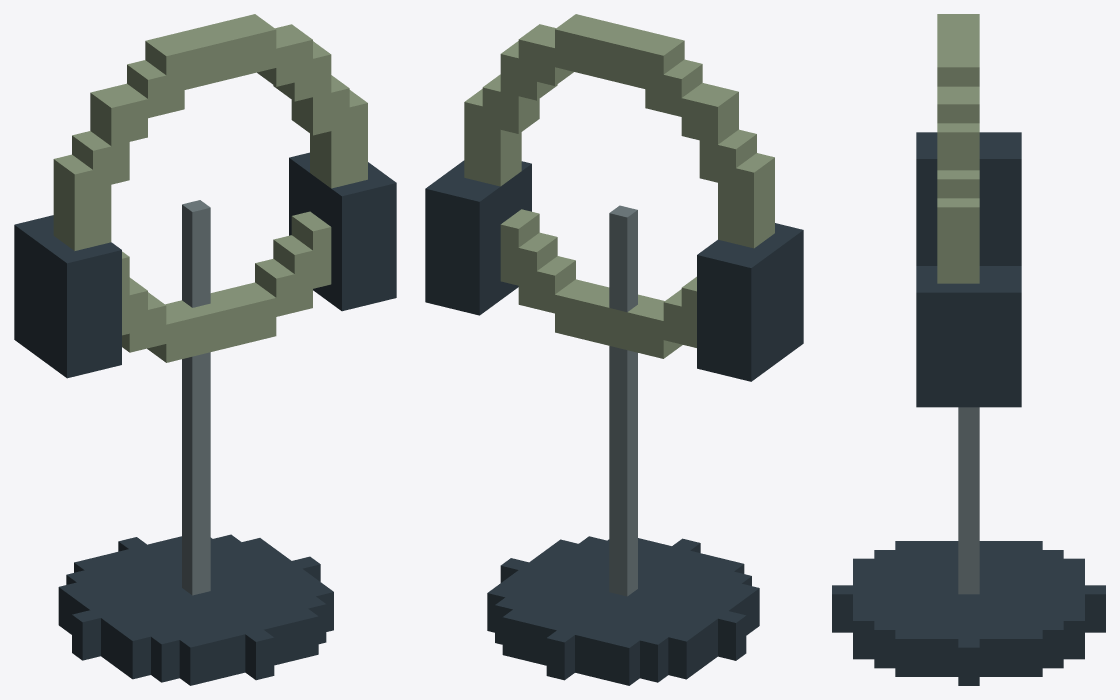
File: productivity-13.glb
The picture shows the model from 3 angles, left to right: view 1: azimuth 30°, elevation 25°; view 2: azimuth 150°, elevation 25°; view 3: azimuth 270°, elevation 25°; orthographic projection.
Parts seen in each view (by area): view 1: Focus headphones; view 2: Focus headphones; view 3: Focus headphones.
Boxes of the visible parts, <box> form: Focus headphones: <box>14,14,396,685</box>; Focus headphones: <box>425,14,803,685</box>; Focus headphones: <box>832,14,1105,685</box>.
Size of the model in its own units: 1.44 by 2.48 by 1.04.
